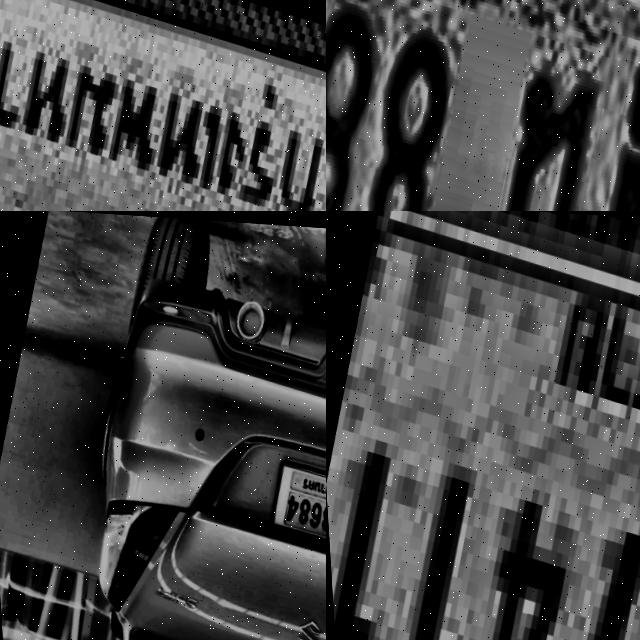license-plate: (326, 211, 640, 640), (0, 0, 326, 211), (326, 0, 640, 211), (259, 449, 326, 557)
